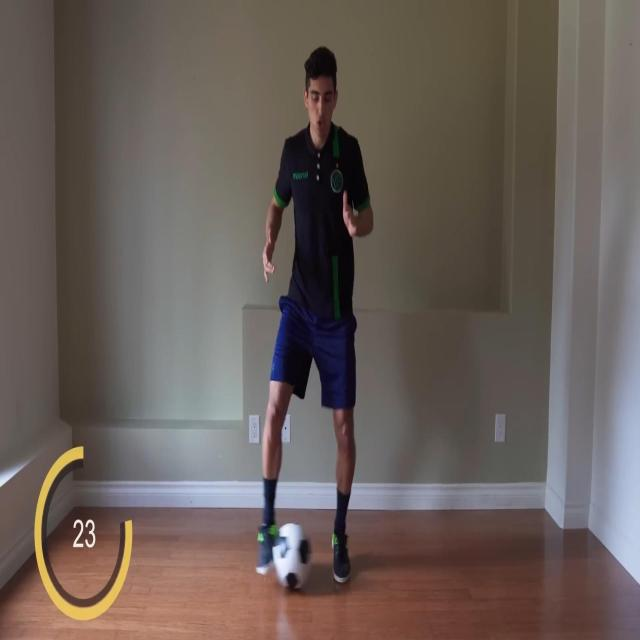Soccer Ball: (272, 521, 312, 592)
